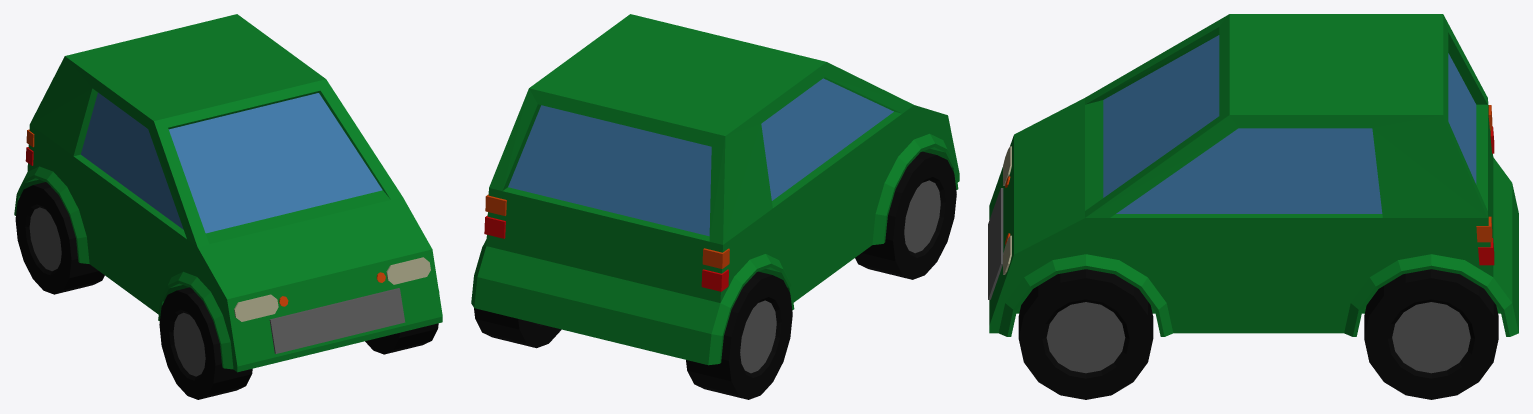
Rendered from car-micro-green.obj.
The picture shows the model from 3 angles, left to right: view 1: azimuth 30°, elevation 25°; view 2: azimuth 150°, elevation 25°; view 3: azimuth 270°, elevation 25°; orthographic projection. The views are drawn at different scales.
Parts seen in each view (by area): view 1: car-micro-green_Cube.595_carmaterial_green, car-micro-green_Cube.595_windows, car-micro-green_Cube.595_tires, car-micro-green_Cube.595_metal, car-micro-green_Cube.595_lights; view 2: car-micro-green_Cube.595_carmaterial_green, car-micro-green_Cube.595_windows, car-micro-green_Cube.595_tires, car-micro-green_Cube.595_metal, car-micro-green_Cube.595_lights.red, car-micro-green_Cube.595_lights.orange; view 3: car-micro-green_Cube.595_carmaterial_green, car-micro-green_Cube.595_windows, car-micro-green_Cube.595_tires, car-micro-green_Cube.595_metal, car-micro-green_Cube.595_lights, car-micro-green_Cube.595_lights.orange.
Boxes of the visible parts, bbox=[...] form: car-micro-green_Cube.595_carmaterial_green: bbox=[14, 14, 442, 372]; car-micro-green_Cube.595_windows: bbox=[81, 92, 382, 233]; car-micro-green_Cube.595_tires: bbox=[15, 182, 438, 399]; car-micro-green_Cube.595_metal: bbox=[29, 207, 405, 376]; car-micro-green_Cube.595_lights: bbox=[234, 257, 430, 321]; car-micro-green_Cube.595_carmaterial_green: bbox=[471, 14, 959, 365]; car-micro-green_Cube.595_windows: bbox=[508, 78, 893, 236]; car-micro-green_Cube.595_tires: bbox=[474, 151, 956, 399]; car-micro-green_Cube.595_metal: bbox=[740, 180, 940, 373]; car-micro-green_Cube.595_lights.red: bbox=[484, 215, 728, 291]; car-micro-green_Cube.595_lights.orange: bbox=[485, 194, 729, 268]; car-micro-green_Cube.595_carmaterial_green: bbox=[989, 14, 1518, 336]; car-micro-green_Cube.595_windows: bbox=[1103, 35, 1476, 213]; car-micro-green_Cube.595_tires: bbox=[1018, 269, 1498, 399]; car-micro-green_Cube.595_metal: bbox=[988, 188, 1470, 373]; car-micro-green_Cube.595_lights: bbox=[1003, 146, 1011, 274]; car-micro-green_Cube.595_lights.orange: bbox=[1005, 105, 1492, 244].
Bounding box in the file's own units: 0.834 × 0.7965 × 1.42.
